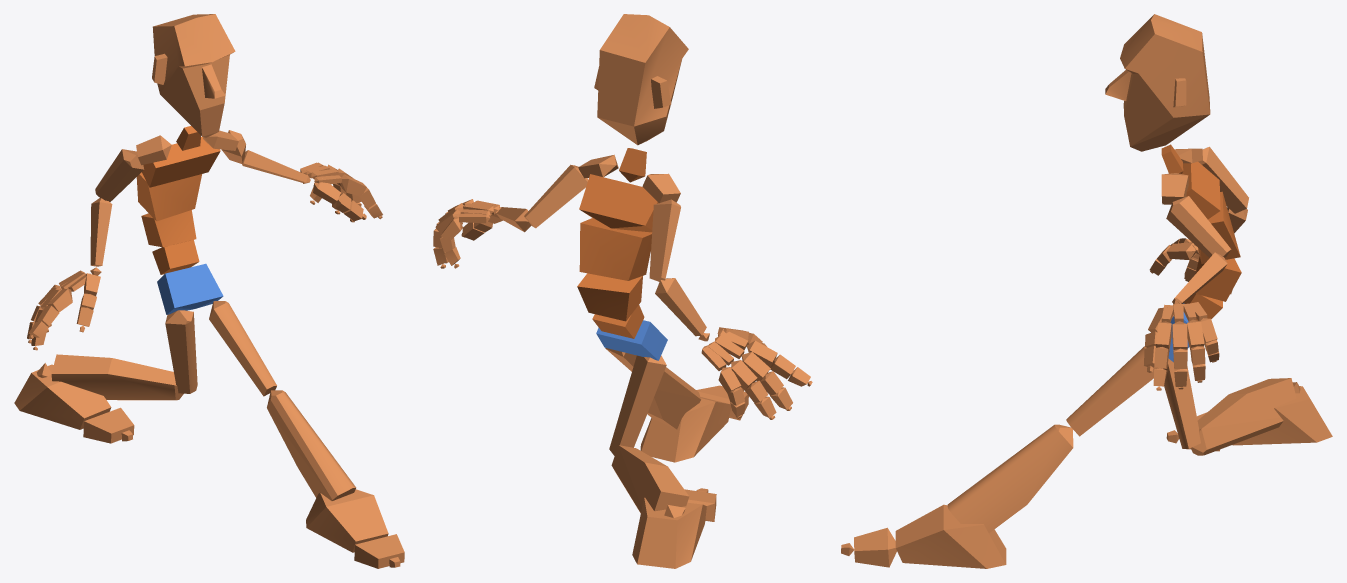
The picture shows the model from 3 angles, left to right: view 1: azimuth 30°, elevation 25°; view 2: azimuth 150°, elevation 25°; view 3: azimuth 270°, elevation 25°; orthographic projection. The views are drawn at different scales.
Parts seen in each view (by area): view 1: BOPED_Head, BOPED_R_leg, BOPED_L_leg, BOPED_R_foot01, BOPED_R_foot, Bone01, BOPED_L_legup, BOPED_R_legup, Bone04, Bone05, Bone03, BOPED_R_arm_upper (+7 smaller); view 2: BOPED_Head, BOPED_R_foot, Bone04, BOPED_R_foot01, Bone05, BOPED_R_leg, BOPED_R_legup, Bone03, BOPED_L_leg, BOPED_R_arm_upper, BOPED_L_arm_upper, Bone01 (+8 smaller); view 3: BOPED_Head, BOPED_L_leg, BOPED_R_foot01, BOPED_R_leg, BOPED_L_legup, BOPED_R_foot, BOPED_L_arm_upper, BOPED_R_legup, Bone05, BOPED_R_foot_toe04, BOPED_R_arm_upper, Bone03 (+3 smaller).
Boxes of the visible parts, x1,y1,x2,y2 form: BOPED_Head: [152, 14, 235, 137]; BOPED_R_leg: [51, 354, 183, 400]; BOPED_L_leg: [267, 390, 356, 500]; BOPED_R_foot01: [306, 489, 388, 552]; BOPED_R_foot: [14, 364, 111, 429]; Bone01: [157, 263, 223, 314]; BOPED_L_legup: [209, 301, 276, 396]; BOPED_R_legup: [165, 310, 197, 393]; Bone04: [136, 172, 201, 221]; Bone05: [142, 137, 220, 187]; Bone03: [141, 210, 196, 247]; BOPED_R_arm_upper: [95, 149, 144, 201]; BOPED_Head: [594, 14, 688, 145]; BOPED_R_foot: [632, 497, 706, 568]; Bone04: [579, 218, 652, 280]; BOPED_R_foot01: [640, 397, 730, 462]; Bone05: [579, 174, 658, 232]; BOPED_R_leg: [611, 445, 689, 513]; BOPED_R_legup: [609, 355, 666, 455]; Bone03: [577, 273, 642, 321]; BOPED_L_leg: [647, 367, 700, 429]; BOPED_R_arm_upper: [649, 199, 680, 281]; BOPED_L_arm_upper: [524, 164, 588, 228]; Bone01: [596, 320, 667, 360]; BOPED_Head: [1105, 14, 1210, 151]; BOPED_L_leg: [947, 424, 1073, 532]; BOPED_R_foot01: [895, 504, 1006, 568]; BOPED_R_leg: [1191, 378, 1296, 455]; BOPED_L_legup: [1066, 346, 1162, 436]; BOPED_R_foot: [1232, 386, 1332, 445]; BOPED_L_arm_upper: [1166, 196, 1231, 257]; BOPED_R_legup: [1163, 358, 1200, 448]; Bone05: [1182, 161, 1220, 219]; BOPED_R_foot_toe04: [854, 527, 896, 567]; BOPED_R_arm_upper: [1198, 146, 1248, 213]; Bone03: [1195, 256, 1241, 301].
Bounding box in the file's own units: 130 × 167 × 147.
